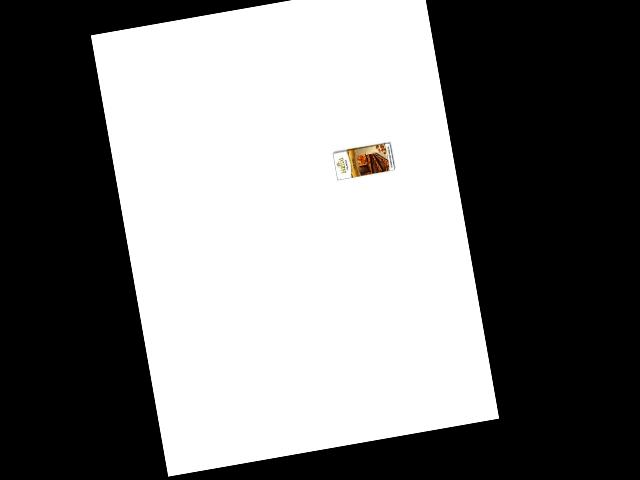chocolate: (327, 130, 398, 186)
